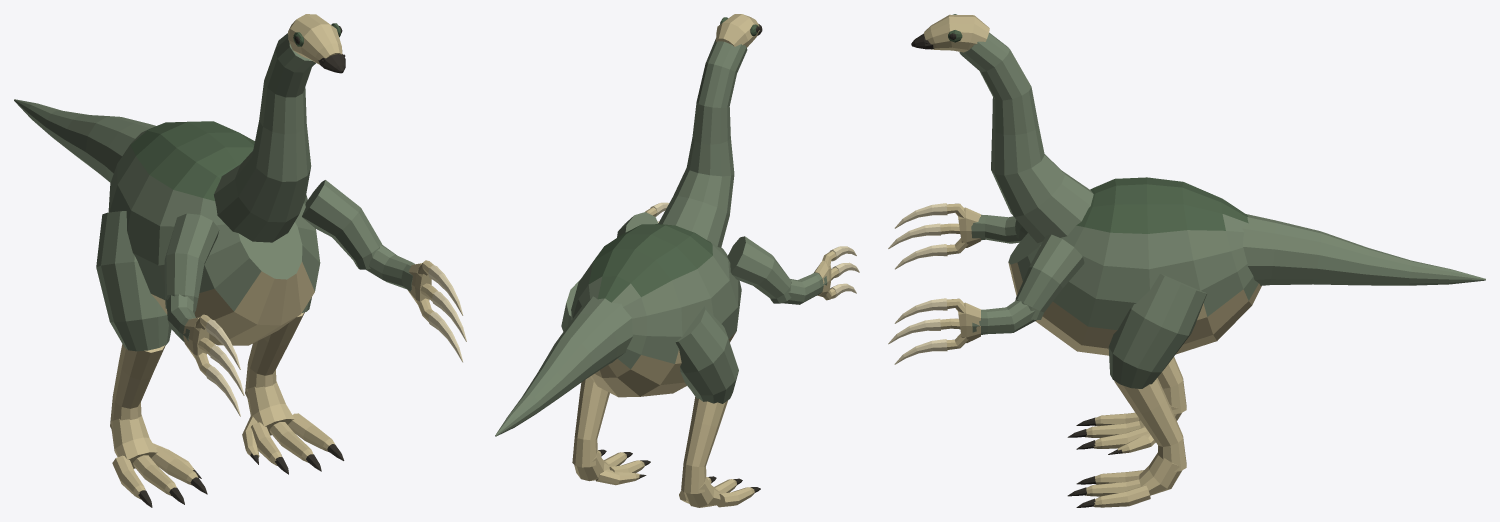
3 renders of one model, left to right at view 1: azimuth 30°, elevation 25°; view 2: azimuth 150°, elevation 25°; view 3: azimuth 270°, elevation 25°, orthographic. The views are drawn at different scales.
Visible parts, largest first — view 1: Surface Olive plumage, Surface Warm belly, Surface Moss back, Surface Ivory horn, Surface Dark keratin; view 2: Surface Olive plumage, Surface Warm belly, Surface Moss back, Surface Ivory horn; view 3: Surface Olive plumage, Surface Warm belly, Surface Moss back, Surface Ivory horn, Surface Dark keratin.
Part boxes in pixels (x1=…): Surface Olive plumage: x1=14, y1=33, x2=414, y2=351; Surface Warm belly: x1=110, y1=14, x2=437, y2=499; Surface Moss back: x1=130, y1=23, x2=341, y2=200; Surface Ivory horn: x1=205, y1=265, x2=466, y2=416; Surface Dark keratin: x1=138, y1=26, x2=345, y2=507; Surface Olive plumage: x1=495, y1=39, x2=827, y2=436; Surface Warm belly: x1=572, y1=14, x2=839, y2=507; Surface Moss back: x1=589, y1=17, x2=757, y2=302; Surface Ivory horn: x1=650, y1=202, x2=859, y2=298; Surface Olive plumage: x1=959, y1=32, x2=1485, y2=388; Surface Warm belly: x1=924, y1=14, x2=1261, y2=507; Surface Moss back: x1=948, y1=14, x2=1248, y2=233; Surface Ivory horn: x1=888, y1=203, x2=947, y2=364; Surface Dark keratin: x1=911, y1=33, x2=1122, y2=507.
Size of the model in its own units: 3.02 by 6.18 by 7.44.
